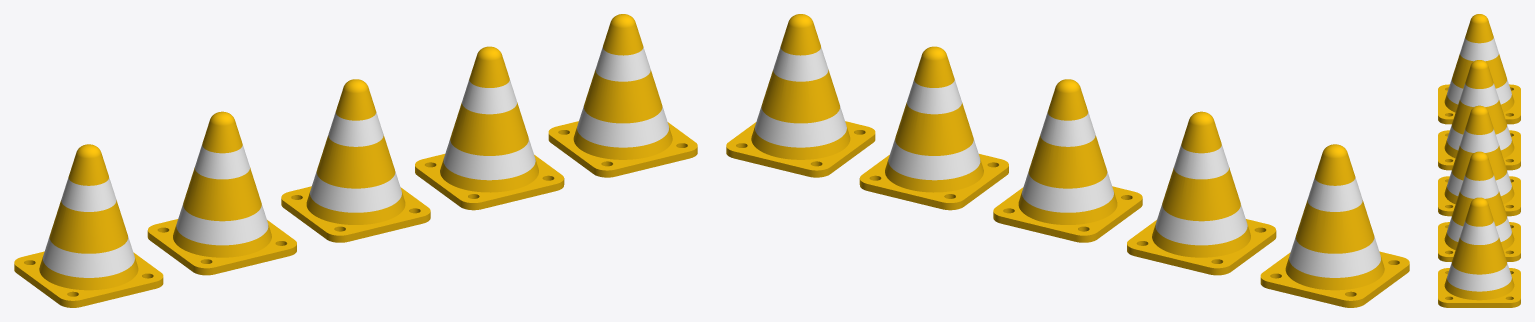
Rendered from pylone.glb.
3 renders of one model, left to right at view 1: azimuth 30°, elevation 25°; view 2: azimuth 150°, elevation 25°; view 3: azimuth 270°, elevation 25°, orthographic. The views are drawn at different scales.
Parts seen in each view (by area): view 1: Pylone-3, Pylone-5, Pylone-4, Pylone-2, Pylone-1; view 2: Pylone-3, Pylone-5, Pylone-4, Pylone-2, Pylone-1; view 3: Pylone-5, Pylone-3, Pylone-2, Pylone-4, Pylone-1.
Part boxes in pixels (box(x1,y1,x2,y2)): Pylone-3: box(281, 79, 430, 242); Pylone-5: box(548, 14, 697, 177); Pylone-4: box(415, 46, 564, 210); Pylone-2: box(147, 111, 296, 275); Pylone-1: box(14, 144, 163, 307); Pylone-3: box(993, 79, 1142, 242); Pylone-5: box(726, 14, 875, 177); Pylone-4: box(859, 46, 1008, 210); Pylone-2: box(1127, 111, 1276, 275); Pylone-1: box(1260, 144, 1409, 307); Pylone-5: box(1438, 197, 1520, 307); Pylone-3: box(1438, 105, 1520, 216); Pylone-2: box(1438, 60, 1520, 170); Pylone-4: box(1438, 151, 1520, 261); Pylone-1: box(1438, 14, 1520, 124).
Size of the model in its own units: 0.0714 by 0.014 by 0.0114.
